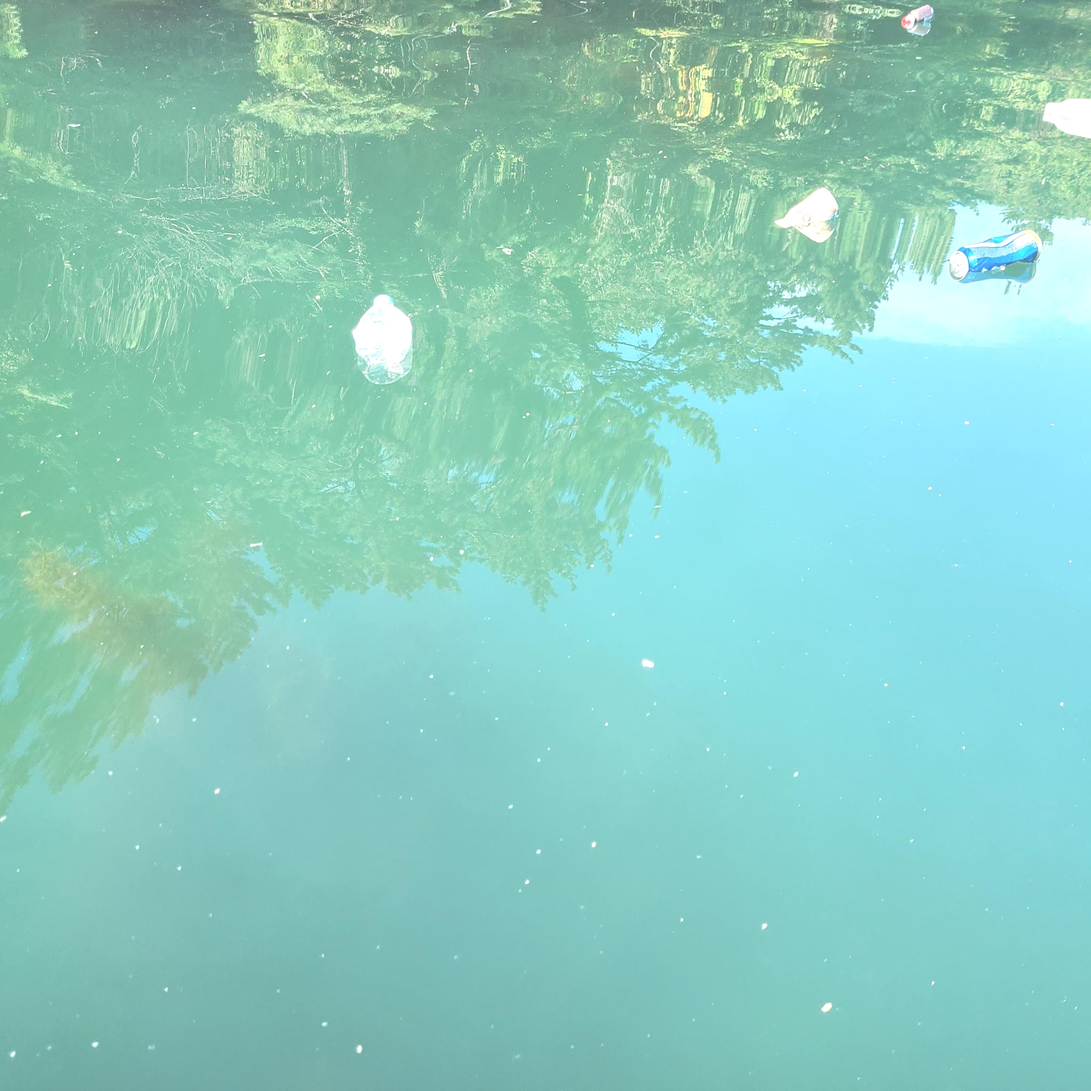sampah_terapung: (353, 295, 412, 365), (950, 230, 1043, 273), (775, 188, 839, 229), (1045, 100, 1091, 122), (902, 5, 934, 23)
